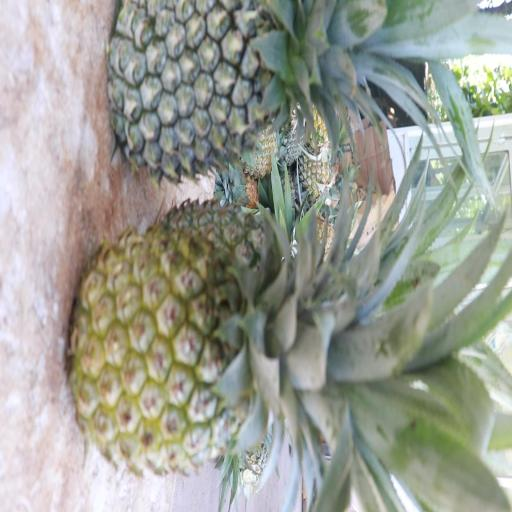------------------------------: (63, 218, 360, 481)
